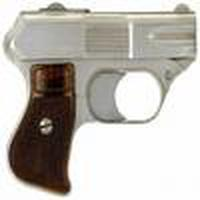gun: (3, 5, 192, 199)
